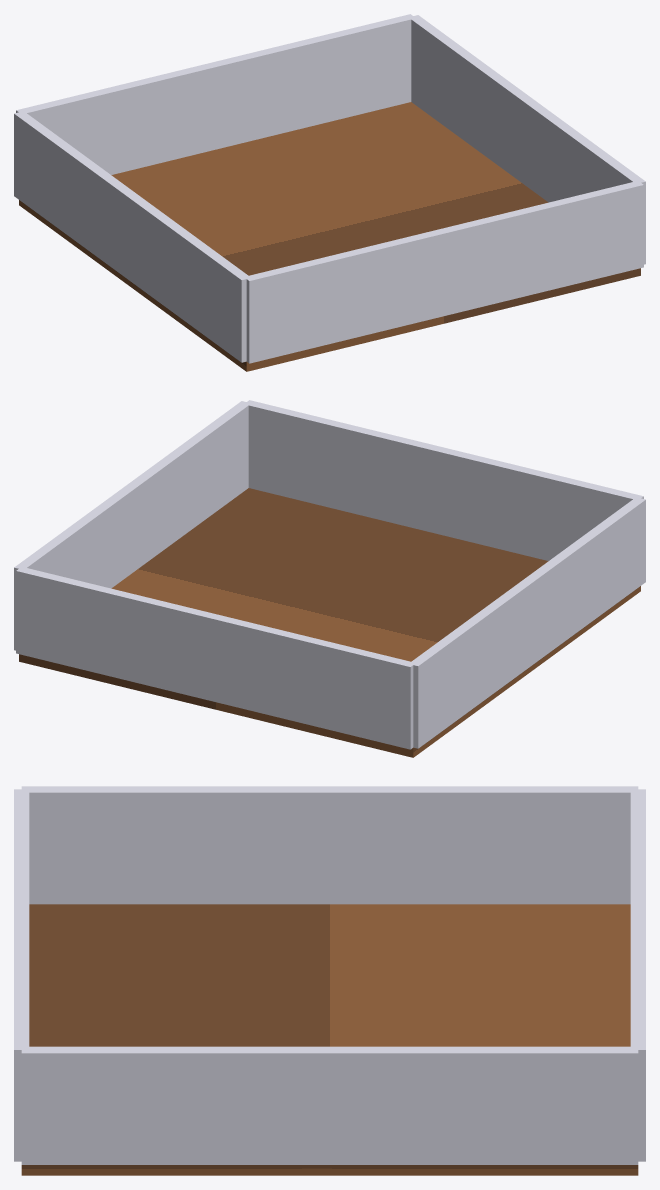
File: sample-map.glb
The picture shows the model from 3 angles, top to bottom: view 1: azimuth 30°, elevation 25°; view 2: azimuth 150°, elevation 25°; view 3: azimuth 270°, elevation 25°; orthographic projection. The views are drawn at different scales.
Parts seen in each view (by area): view 1: Floor, WallS, WallN, WallW, WallE; view 2: Floor, WallN, WallS, WallW, WallE; view 3: Floor, WallE, WallW, WallN, WallS.
Boxes of the visible parts, left/top/right/bottom form: Floor: left=19, top=102, right=640, bottom=371; WallS: left=244, top=182, right=643, bottom=363; WallN: left=16, top=14, right=415, bottom=174; WallW: left=14, top=111, right=250, bottom=362; WallE: left=409, top=15, right=645, bottom=264; Floor: left=19, top=488, right=640, bottom=757; WallN: left=16, top=567, right=415, bottom=749; WallS: left=244, top=400, right=643, bottom=560; WallW: left=410, top=497, right=645, bottom=748; WallE: left=14, top=401, right=250, bottom=650; Floor: left=21, top=904, right=638, bottom=1175; WallE: left=21, top=1046, right=638, bottom=1164; WallW: left=21, top=786, right=638, bottom=904; WallN: left=630, top=789, right=645, bottom=1161; WallS: left=14, top=789, right=29, bottom=1161.
Bounding box in the file's own units: 20.5 × 4.5 × 20.5.
2 materials, 1 textured.
